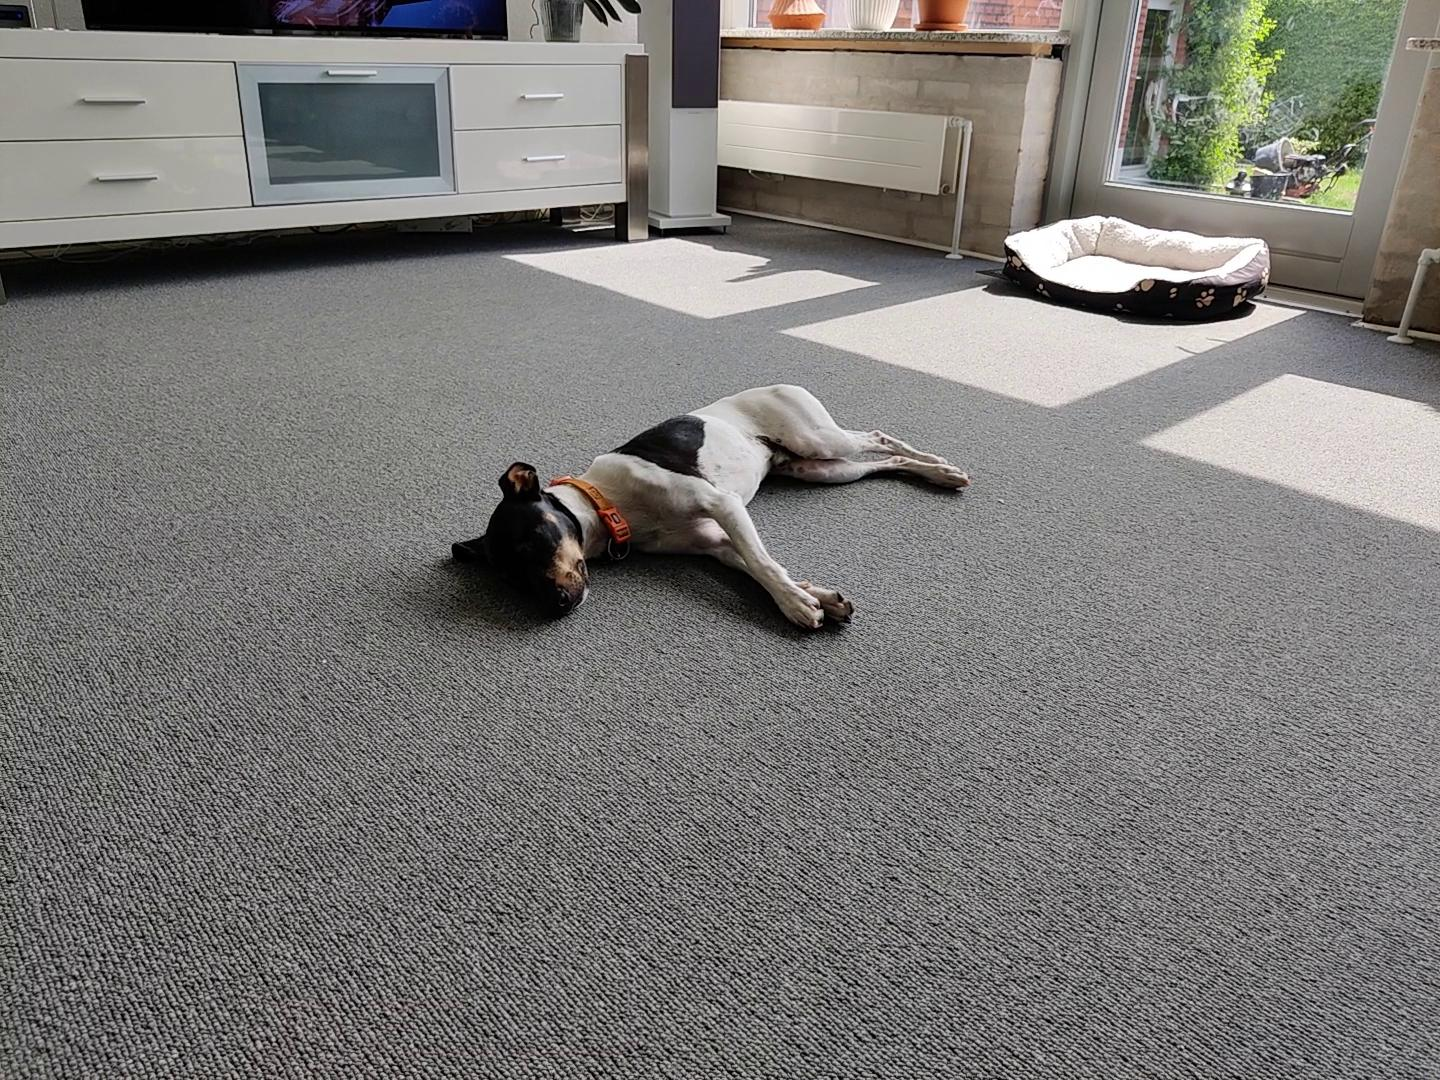Dog: (444, 377, 971, 643)
